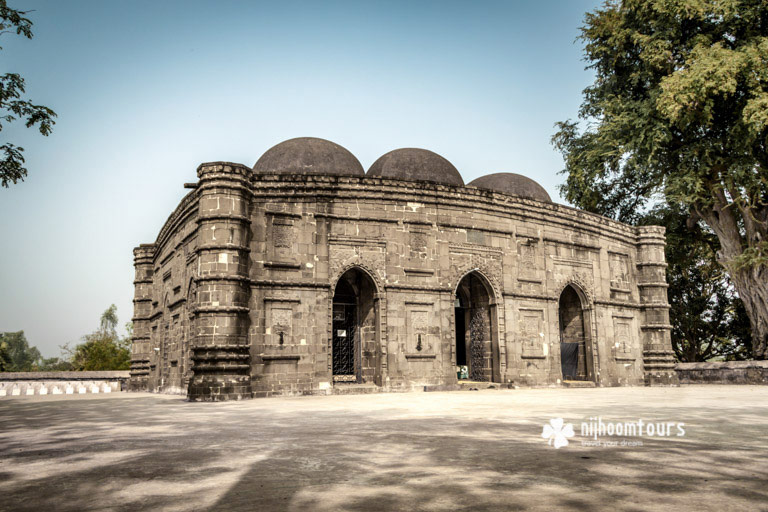Mosque: (105, 135, 687, 404)
